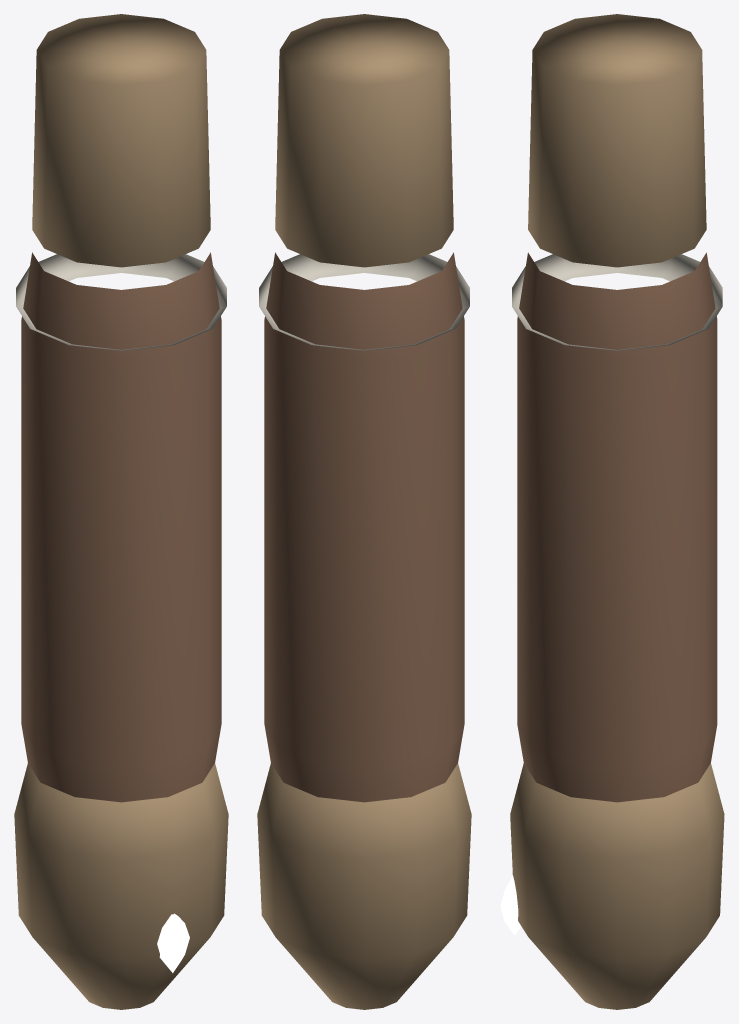
File: handle_uncommon.glb
3 views of the same model, side by side, from view 1: azimuth 30°, elevation 25°; view 2: azimuth 150°, elevation 25°; view 3: azimuth 270°, elevation 25° (orthographic).
Parts seen in each view (by area): view 1: handle_uncommon; view 2: handle_uncommon; view 3: handle_uncommon.
Boxes of the visible parts, x1=… form: handle_uncommon: x1=14, y1=14, x2=228, y2=1009; handle_uncommon: x1=257, y1=14, x2=471, y2=1009; handle_uncommon: x1=500, y1=14, x2=724, y2=1009.
Bounding box in the file's own units: 0.0864 × 0.42 × 0.0903.
